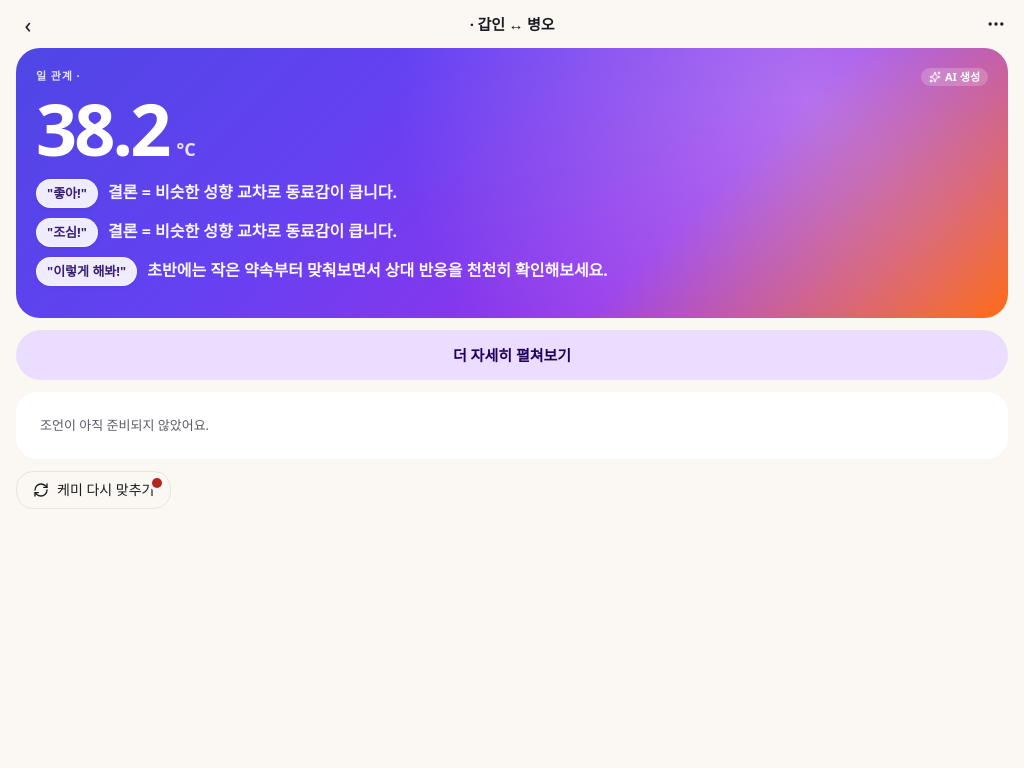
Scenario: HapcardView 쉽게 보기 토글 (G-5) › 저장된 선호가 없으면 쉽게 보기가 기본 ON 으로 노출된다
The image size is (1024, 768).
Click the button "더 자세히 펼쳐보기" at [512, 355], box [16,330,1008,380]
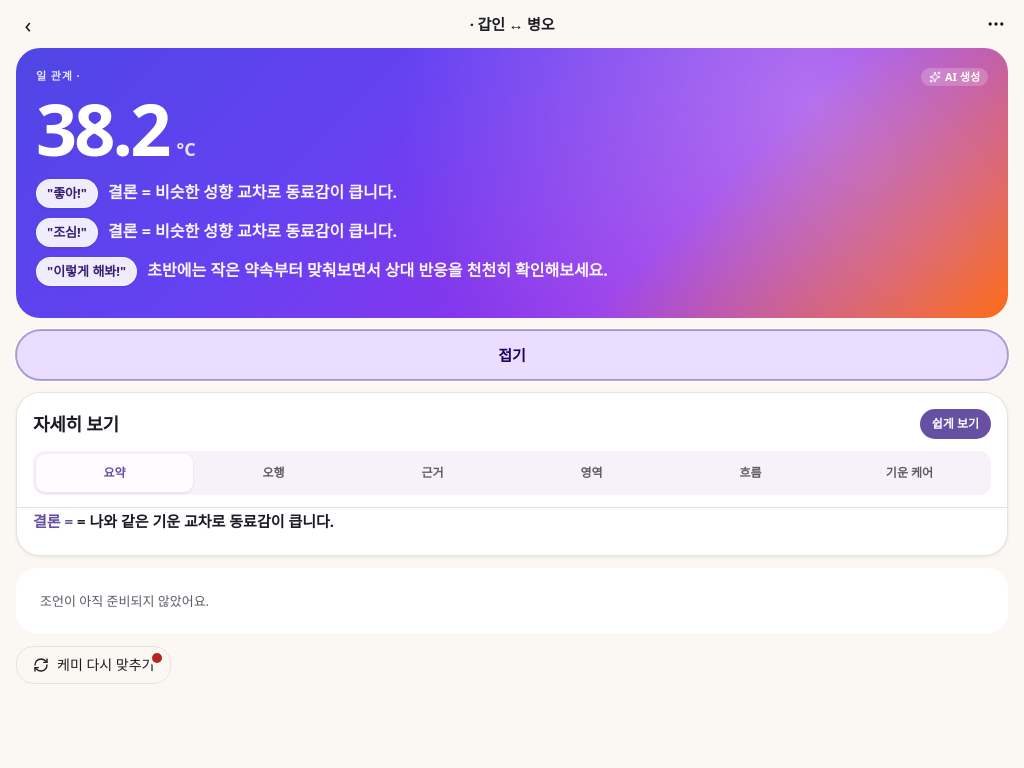
Now the text "= 나와 같은 기운 교차로 동료감이 큽니다." is shown, box [77,511,334,531]
